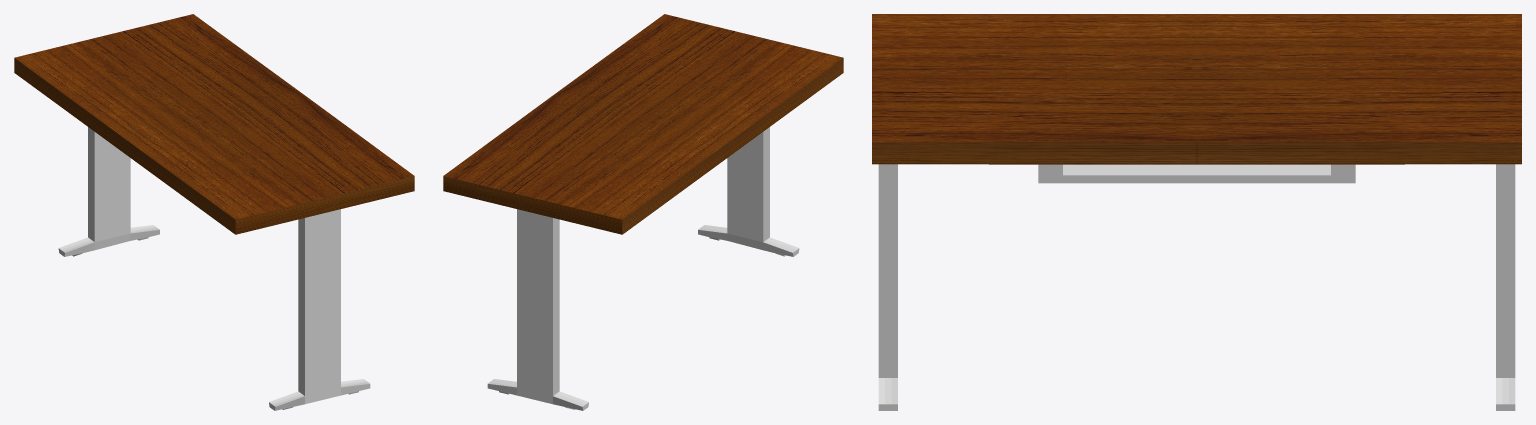
The model's file is computerdeskwooden.glb.
The picture shows the model from 3 angles, left to right: view 1: azimuth 30°, elevation 25°; view 2: azimuth 150°, elevation 25°; view 3: azimuth 270°, elevation 25°; orthographic projection. The views are drawn at different scales.
Visible parts, largest first — view 1: Cube; view 2: Cube; view 3: Cube.
Boxes of the visible parts, box(x1,y1,x2,y2) form: Cube: box(14, 14, 414, 410); Cube: box(443, 14, 843, 410); Cube: box(872, 14, 1521, 410).
Bounding box in the file's own units: 1.82 × 2 × 3.89.
Materials: 2 (1 with a texture image).
